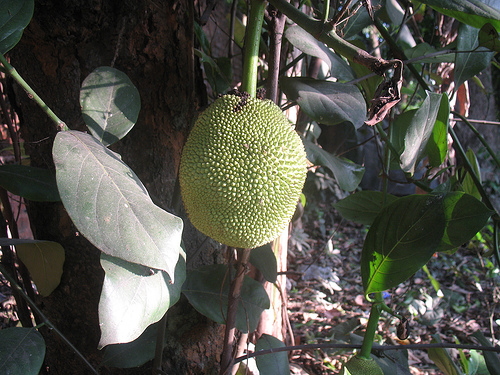jackfruit: (179, 93, 309, 250)
